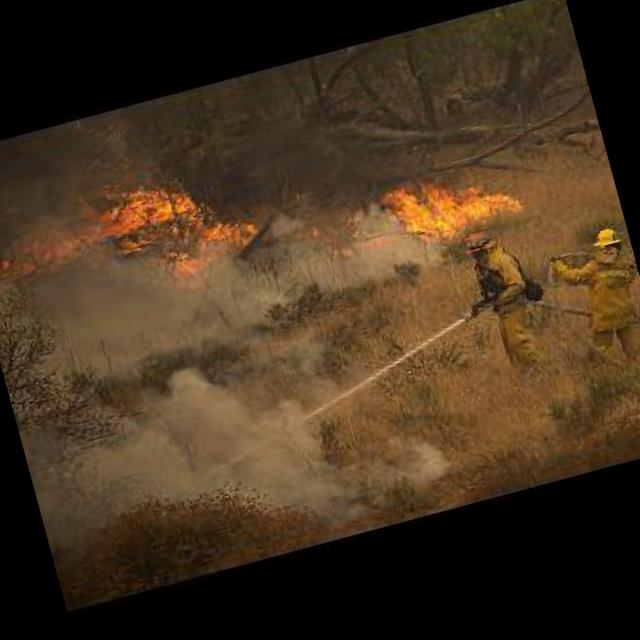fire: (0, 150, 264, 322), (297, 150, 524, 272)
